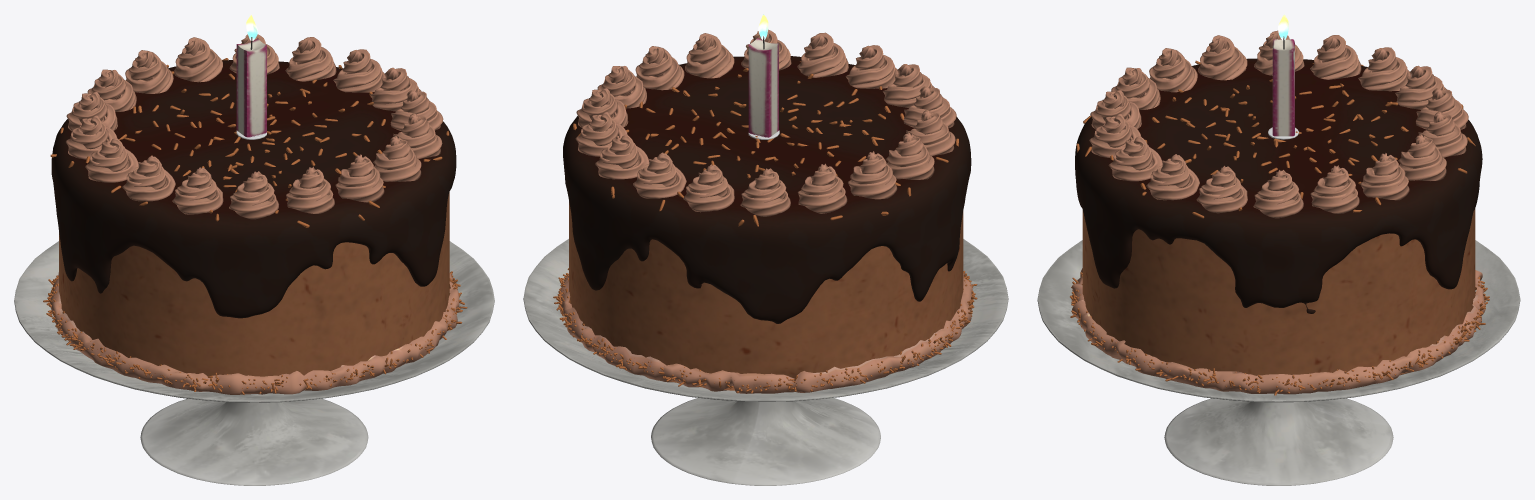
Rendered from cake.gltf.
3 renders of one model, left to right at view 1: azimuth 30°, elevation 25°; view 2: azimuth 150°, elevation 25°; view 3: azimuth 270°, elevation 25°, orthographic.
Parts seen in each view (by area): view 1: Stand_Cake_0.003; view 2: Stand_Cake_0.003; view 3: Stand_Cake_0.003.
Boxes of the visible parts, left/top/right/bottom form: Stand_Cake_0.003: left=14, top=14, right=494, bottom=485; Stand_Cake_0.003: left=523, top=14, right=1008, bottom=485; Stand_Cake_0.003: left=1037, top=14, right=1520, bottom=485.
Bounding box in the file's own units: 0.3308 × 0.3209 × 0.3314.
Materials: 1 (1 with a texture image).
